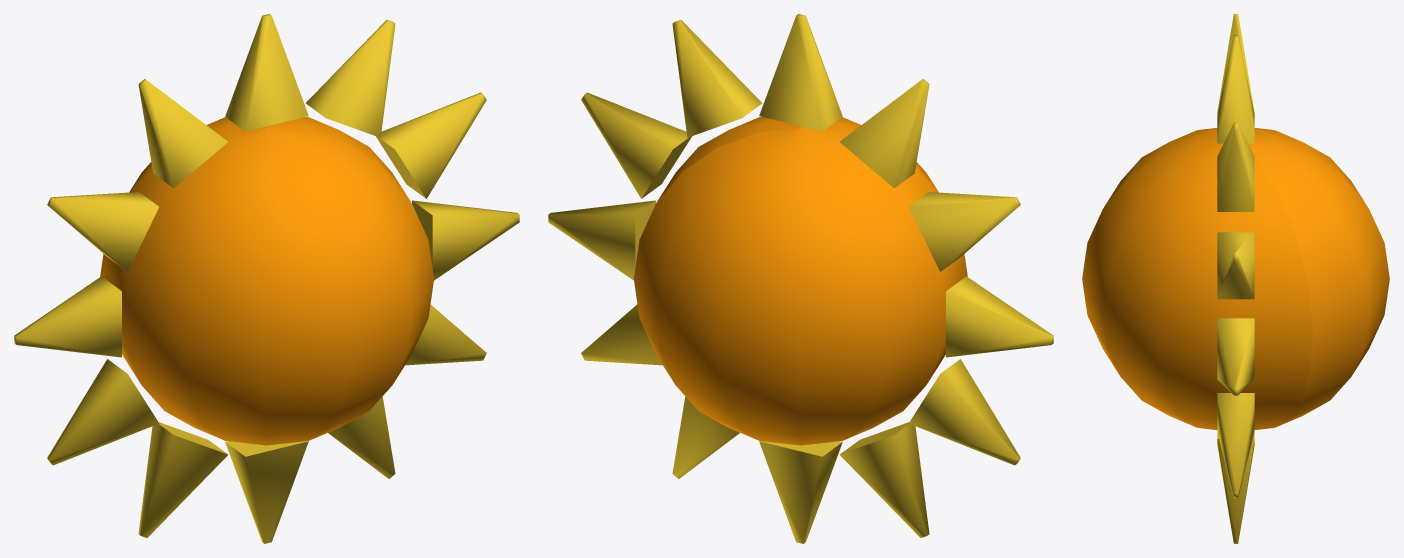
The model's file is Sun.fbx.
3 views of the same model, side by side, from view 1: azimuth 30°, elevation 25°; view 2: azimuth 150°, elevation 25°; view 3: azimuth 270°, elevation 25° (orthographic). The views are drawn at different scales.
Visible parts, largest first — view 1: Sun; view 2: Sun; view 3: Sun.
Boxes of the visible parts, x1,y1,x2,y2 form: Sun: [14, 14, 519, 543]; Sun: [548, 14, 1053, 543]; Sun: [1082, 14, 1389, 543].
Bounding box in the file's own units: 347 × 347 × 200.
